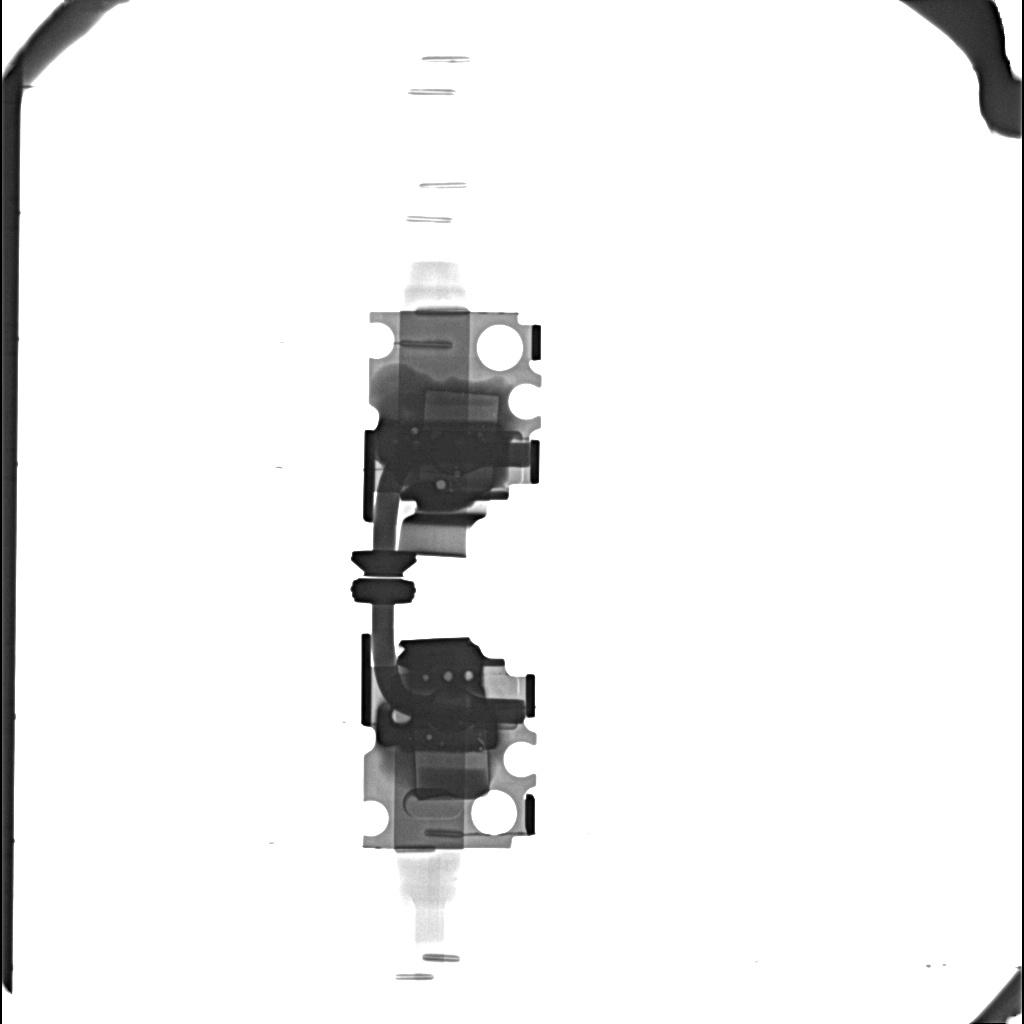defect: (376, 422, 505, 467), (378, 703, 496, 748), (413, 751, 491, 800), (422, 390, 501, 421), (464, 670, 474, 682), (436, 479, 445, 490), (443, 671, 452, 682), (422, 674, 429, 682)
